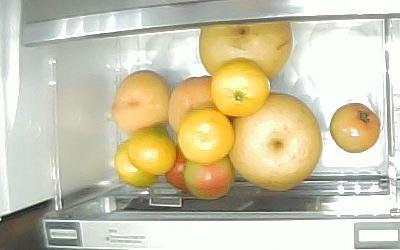peach: (111, 69, 170, 134), (169, 75, 216, 133)
pear: (226, 92, 322, 191), (198, 20, 293, 81)
tangerine: (211, 62, 270, 116), (177, 109, 233, 163), (126, 130, 175, 175), (115, 140, 160, 188)
tomato: (330, 102, 380, 153), (183, 155, 234, 200)
